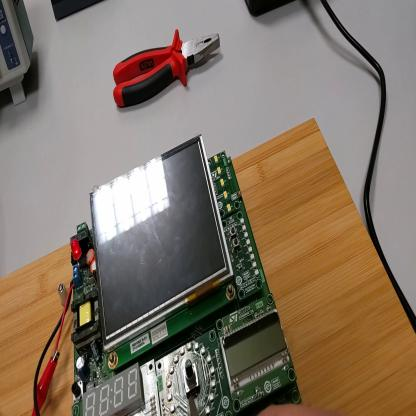hand: (260, 403, 340, 415)
low voltage board: (34, 134, 302, 416)
oscilloscope: (2, 1, 33, 109)
oscilloscope probe tip: (189, 396, 199, 416)
pliers: (113, 25, 222, 110)
welder station: (248, 2, 294, 22)
working area: (2, 118, 416, 416)
